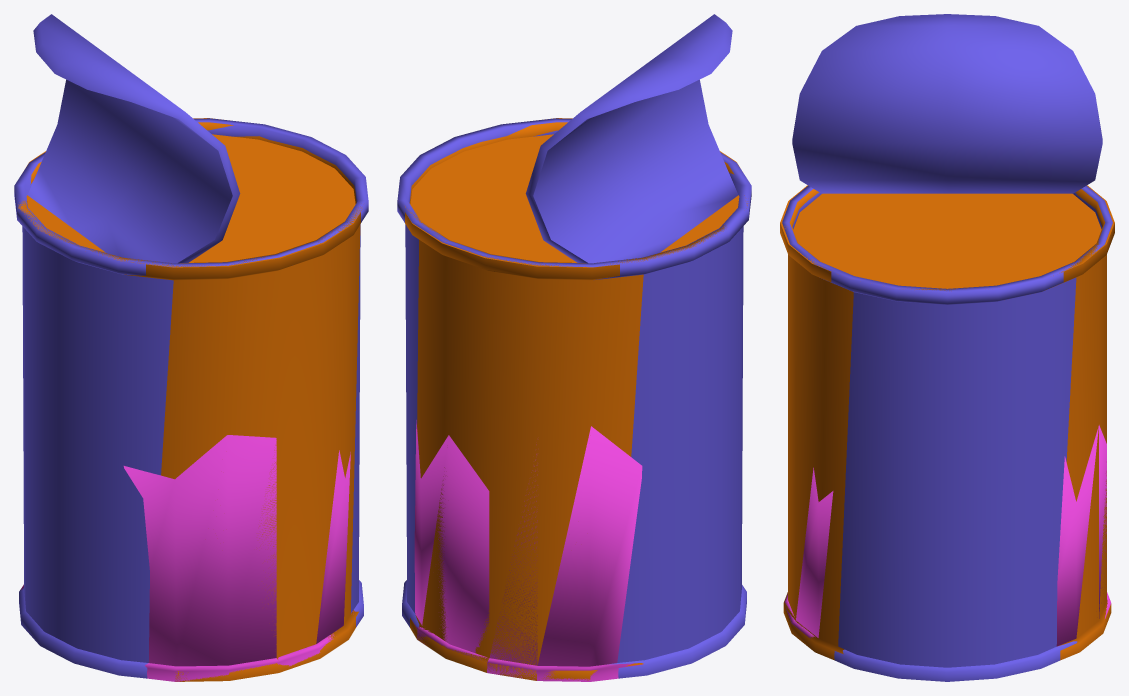
File: CansFix.fbx
3 views of the same model, side by side, from view 1: azimuth 30°, elevation 25°; view 2: azimuth 150°, elevation 25°; view 3: azimuth 270°, elevation 25° (orthographic). The views are drawn at different scales.
Parts seen in each view (by area): view 1: SM_OpenCan, SM_Can, SM_IntruderCan; view 2: SM_OpenCan, SM_Can, SM_IntruderCan; view 3: SM_OpenCan, SM_Can, SM_IntruderCan.
Part boxes in pixels (left/top/right/bottom): SM_OpenCan: left=14, top=14, right=368, bottom=678; SM_Can: left=18, top=118, right=362, bottom=681; SM_IntruderCan: left=21, top=435, right=353, bottom=681; SM_OpenCan: left=397, top=14, right=751, bottom=678; SM_Can: left=405, top=118, right=747, bottom=680; SM_IntruderCan: left=411, top=419, right=642, bottom=681; SM_OpenCan: left=782, top=14, right=1112, bottom=681; SM_Can: left=780, top=185, right=1114, bottom=660; SM_IntruderCan: left=784, top=425, right=1111, bottom=646.
Bounding box in the file's own units: 0.1088 × 0.1937 × 0.1088.
